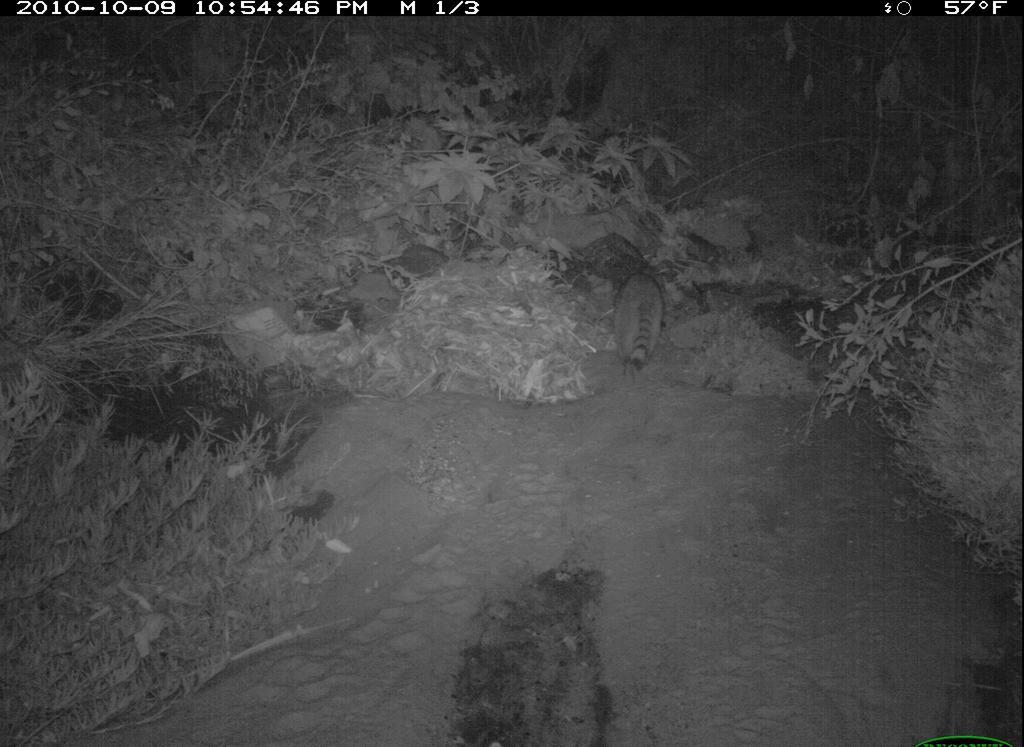raccoon: (600, 260, 679, 397)
